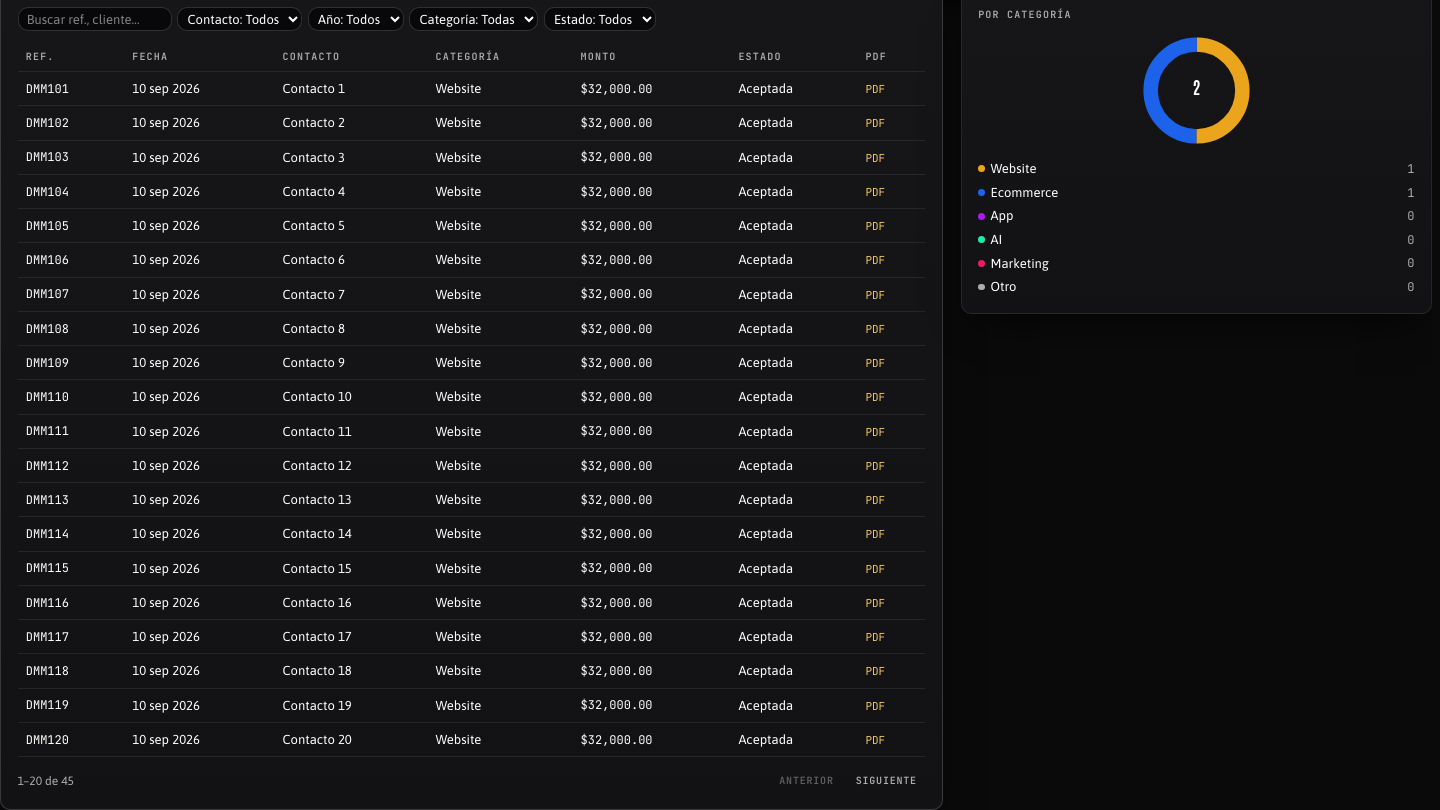
Cotizaciones, 20 a page › goes back to page 1 when a filter changes
(page scrolled)
Click the button "Siguiente": point(886, 780) [848, 768, 925, 793]
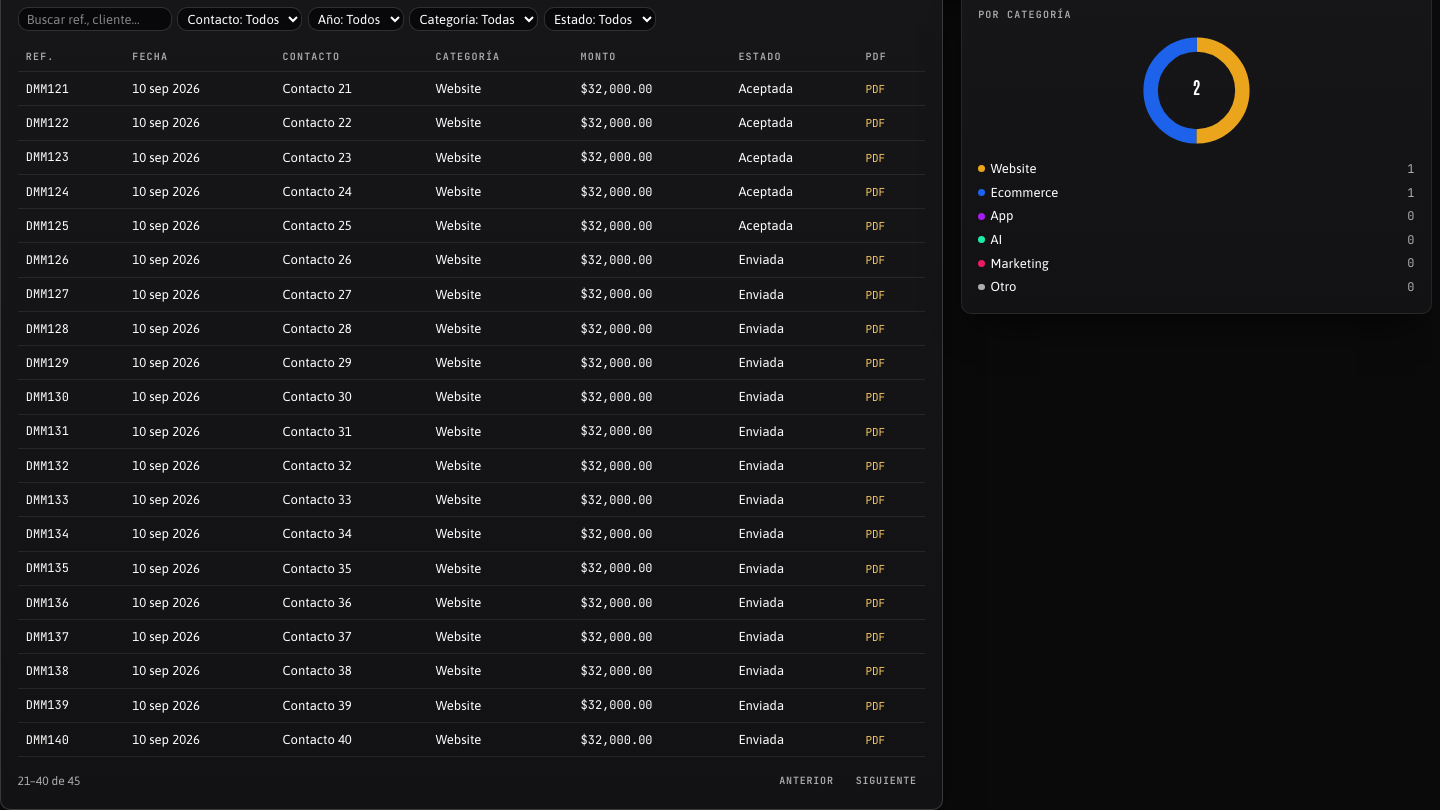
Select "Aceptada" in the dropdown named "Estado": point(600, 19) [544, 7, 656, 31]
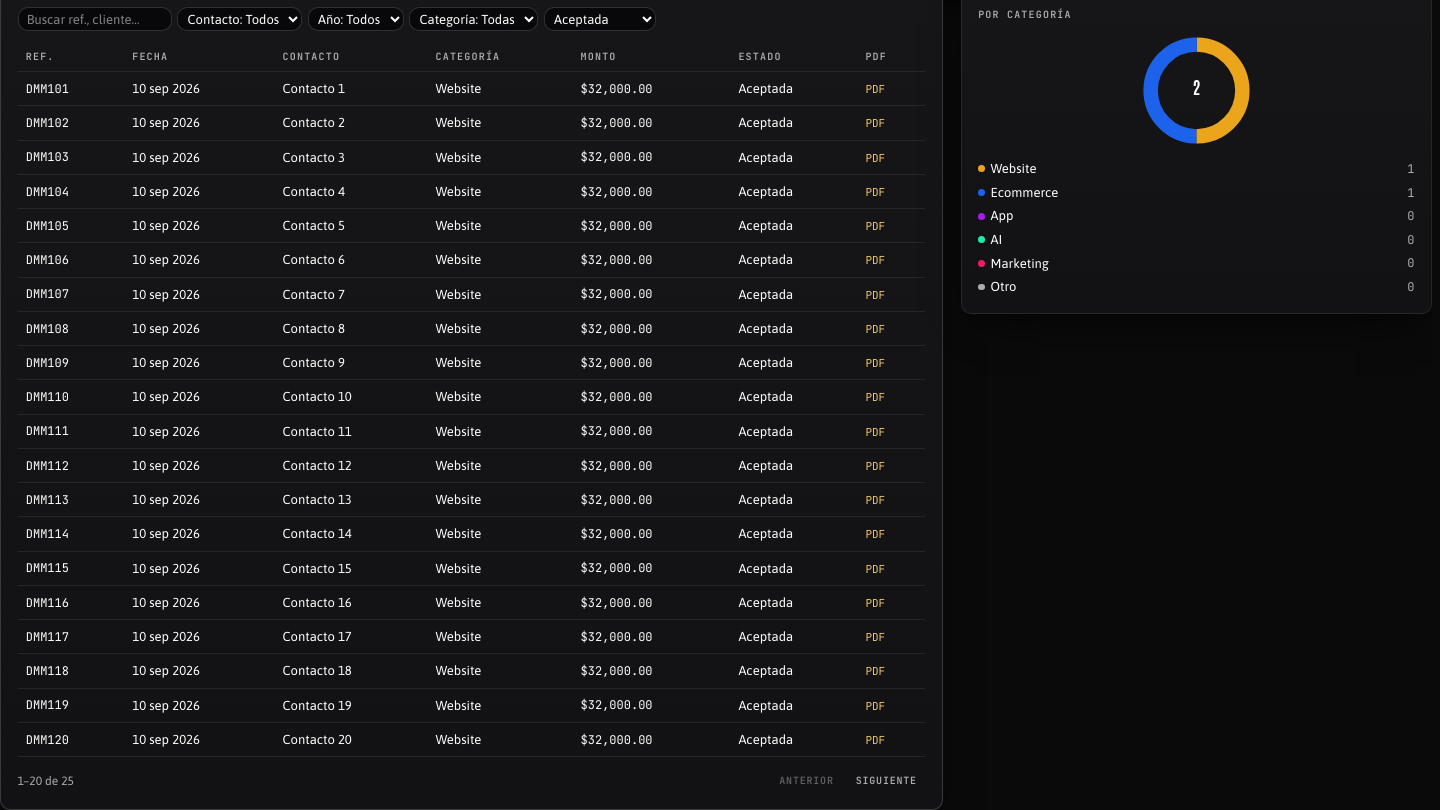
Now the text "1–20 de 25" is shown, box [18, 772, 74, 790]
